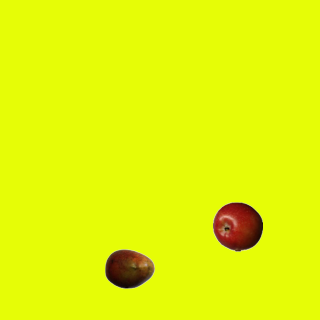Apple Braeburn: (212, 201, 262, 251)
Mango Red: (104, 243, 154, 293)
